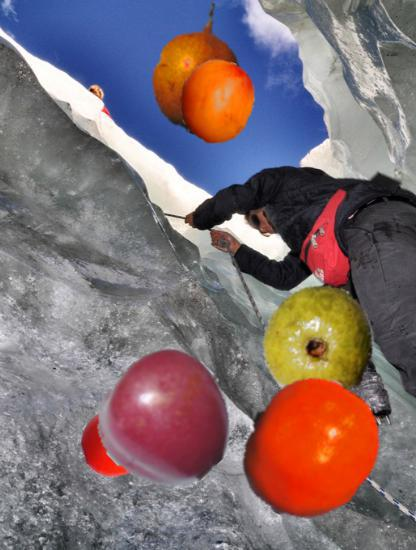Apricot: (174, 59, 259, 144)
Cherry: (100, 354, 233, 487)
Clementine: (239, 377, 384, 522)
Granadilla: (136, 3, 266, 133)
Guava: (259, 284, 379, 404)
Tomato: (80, 409, 149, 478)
